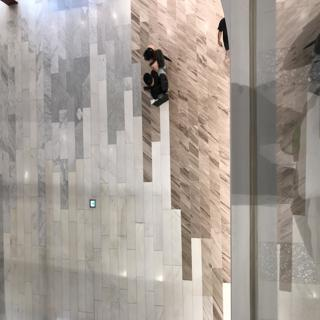person: (133, 69, 176, 112), (139, 44, 184, 74)
